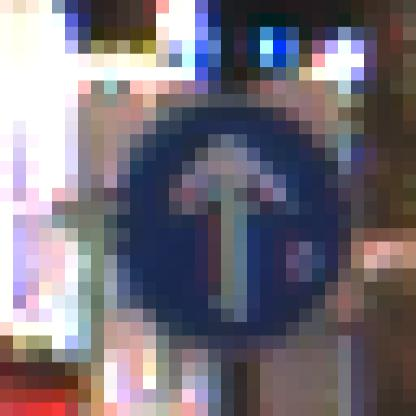AheadOnly: (66, 68, 339, 350)
